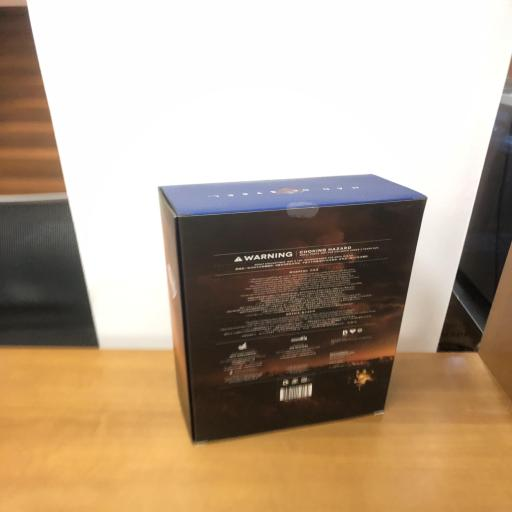superman: (156, 176, 426, 444)
